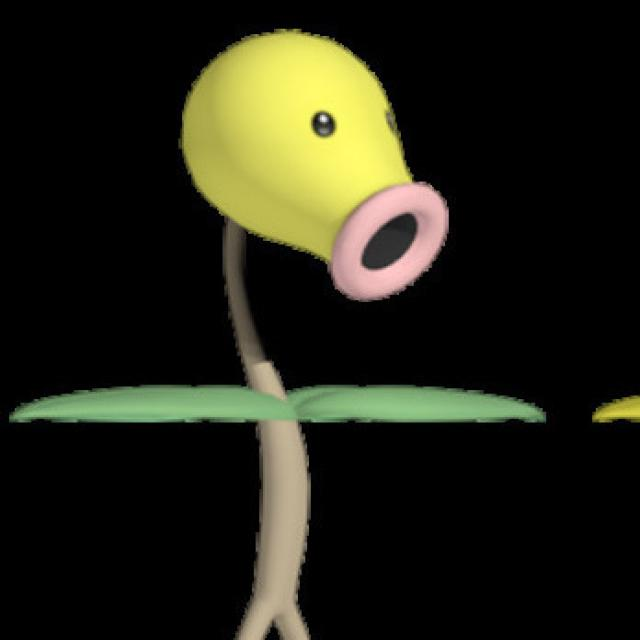Bellsprout: (173, 28, 451, 639)
